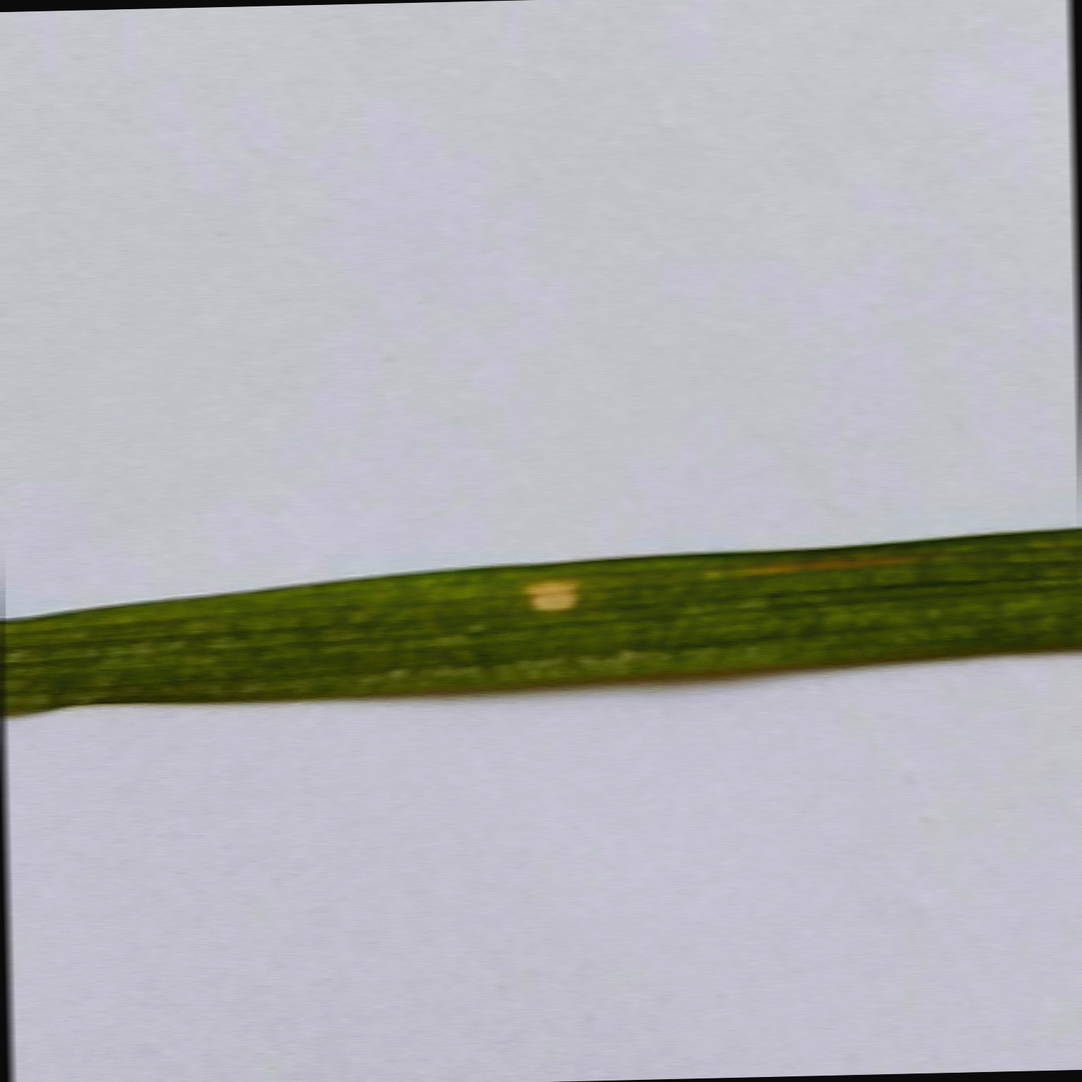Brown_Spot: (504, 553, 595, 618)
